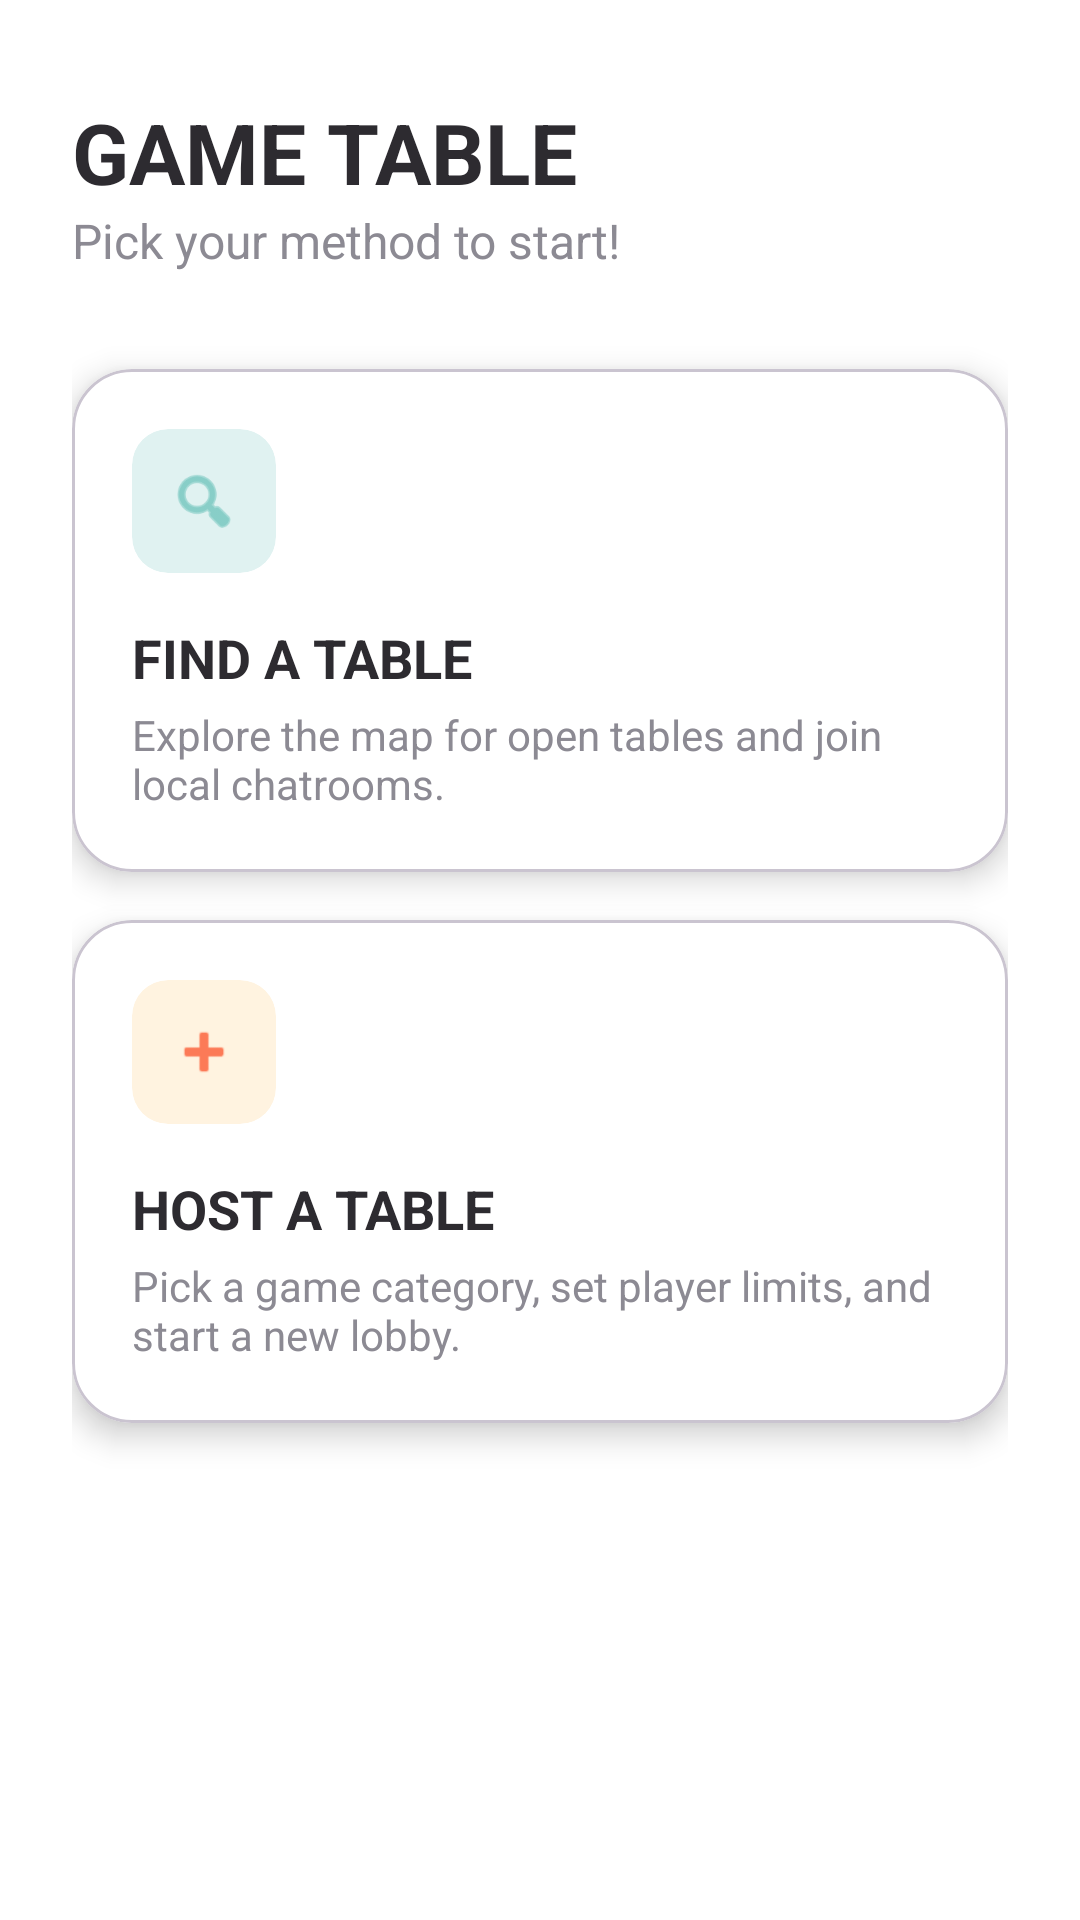

Named icons in this screenshot (1080px x 1920px) and their bounding boxes, (x1, y1, x2, y2):
add: (184, 1032, 224, 1072)
search: (178, 475, 230, 528)
